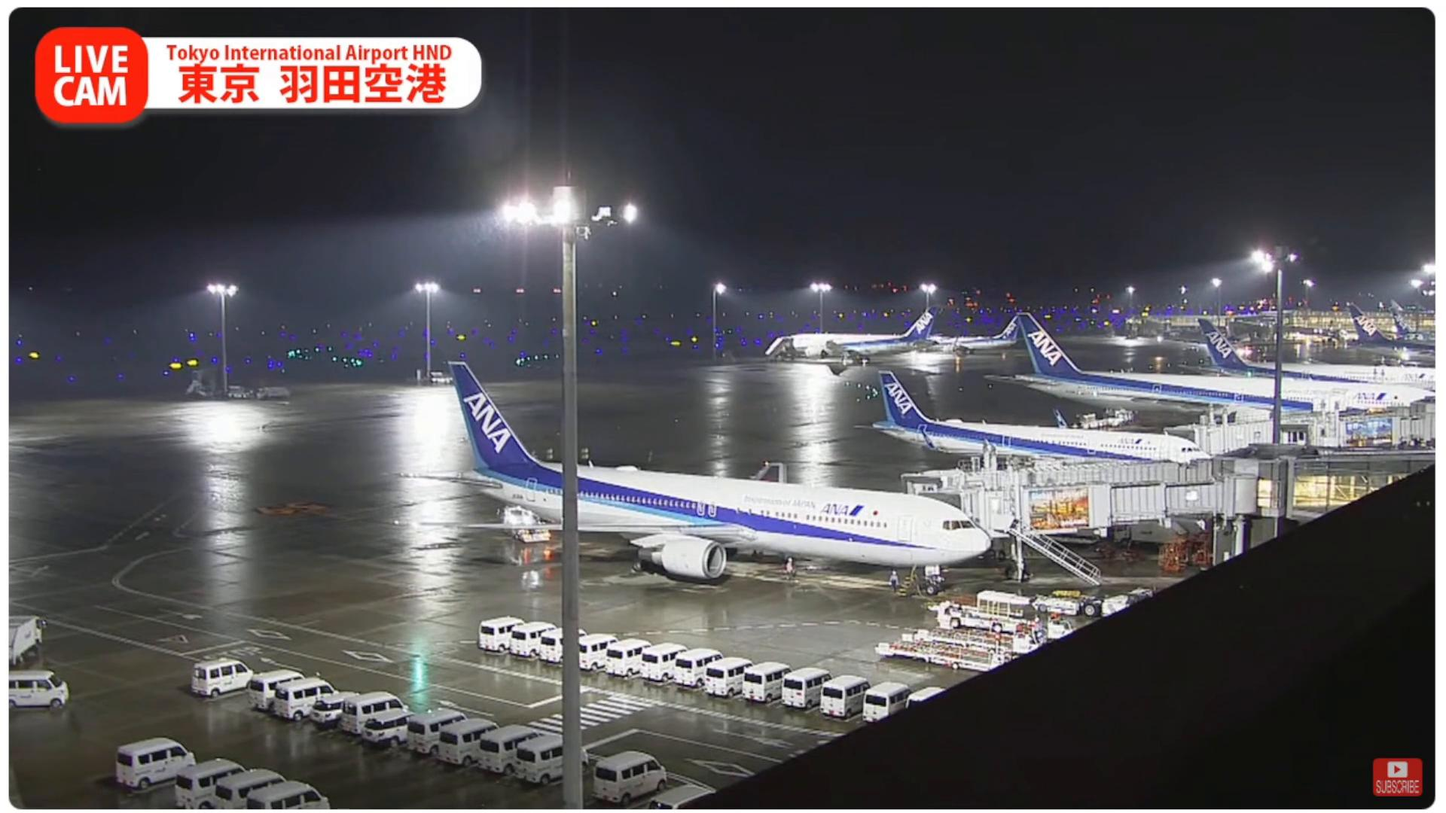Aerobridge: (927, 475, 1249, 541), (902, 461, 1219, 494)
Airplane: (384, 360, 990, 589)
JCPL: (897, 633, 1018, 673), (895, 625, 1050, 656)
Skyloader: (922, 587, 1032, 633)
Tow Tug: (1035, 585, 1150, 622)
Window: (1293, 468, 1419, 517)
